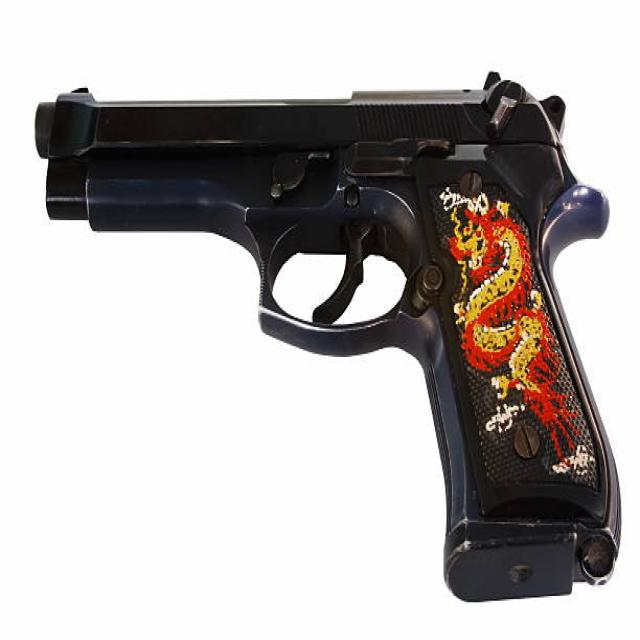pistol: (27, 69, 628, 603)
